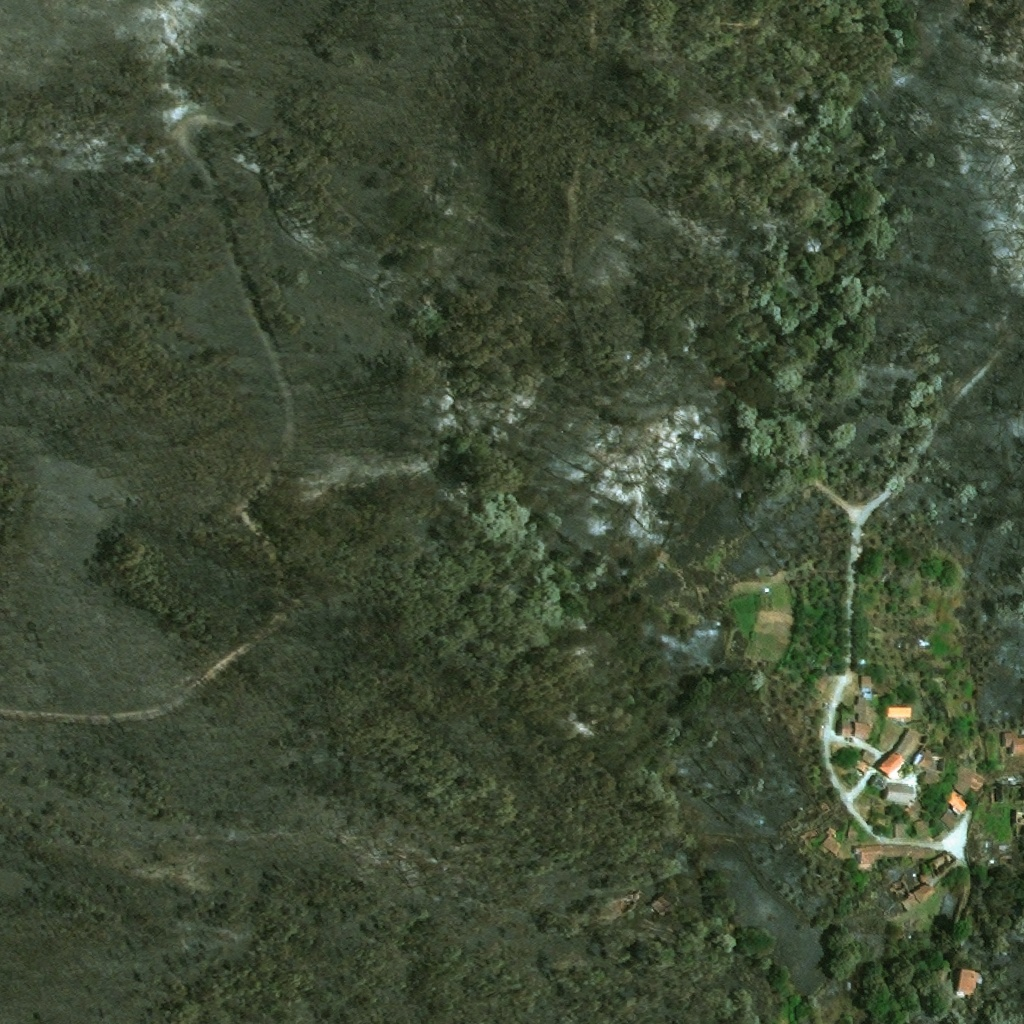0 no-damage: (856, 844, 934, 870), (879, 730, 921, 778), (950, 766, 983, 796), (852, 690, 872, 738), (956, 969, 982, 998), (886, 784, 915, 805), (944, 790, 967, 816), (818, 834, 843, 855), (913, 883, 936, 904), (1003, 733, 1023, 754), (939, 809, 959, 829), (914, 820, 931, 838), (855, 758, 872, 774), (895, 822, 911, 838), (887, 707, 912, 717), (861, 749, 876, 764), (841, 719, 855, 733), (860, 675, 871, 688)
1 minor-damage: (870, 773, 889, 792)
2 major-damage: (913, 748, 945, 773)
3 destroyed: (648, 897, 672, 917), (800, 826, 823, 845), (845, 767, 864, 786)
4 un-classified: (857, 656, 867, 665)
